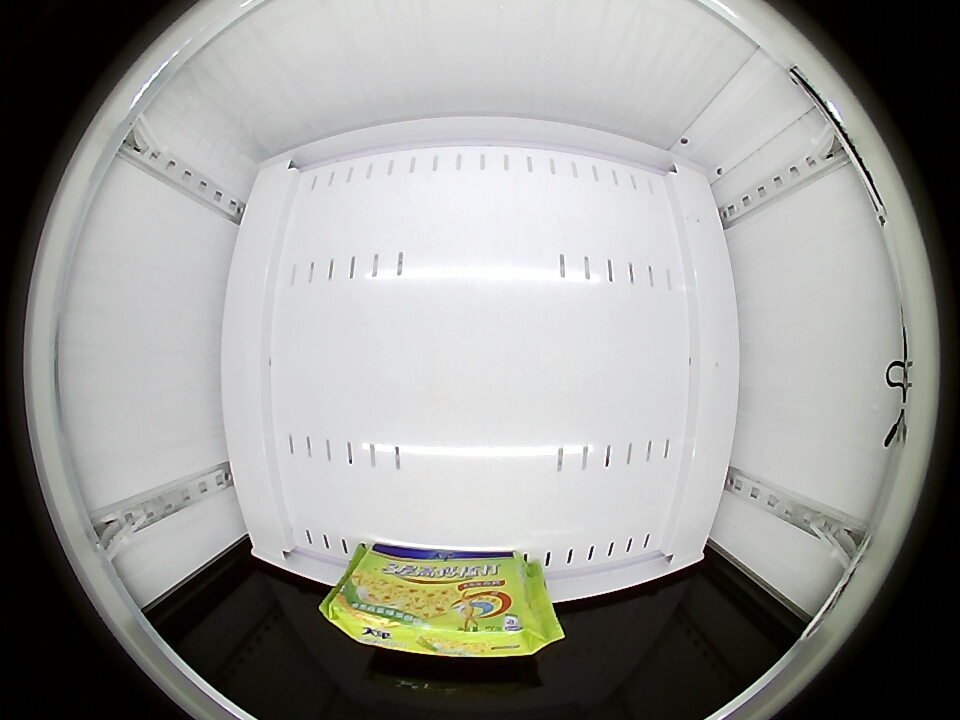taipingshuda: (326, 550, 550, 659)
